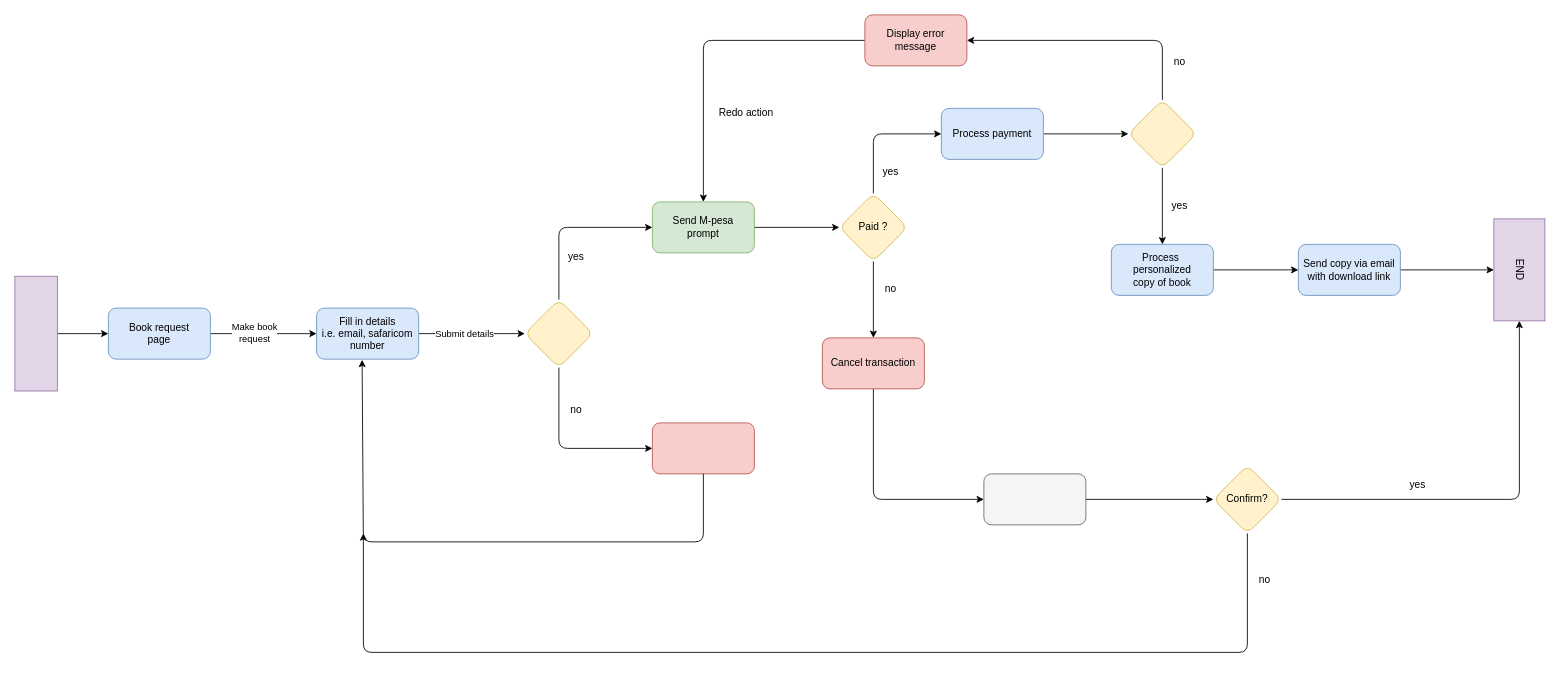
Some shapes in this 1560 by 674 pixel diagram are drawn without their labels. Here are the shapes that lost their labels. From the top down, the centre of each, then its label:
At point (1162, 133): "Success?".
At point (35, 333): "Start".
At point (558, 333): "Details valid?".
At point (703, 448): "Send error message and ask for confirmartion of details".
At point (1034, 499): "Confirm order cancellation".
